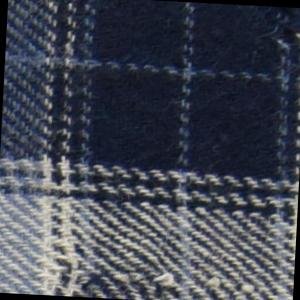Damage: (57, 257, 179, 300), (256, 6, 300, 67)
